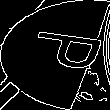P_E: (8, 31, 102, 79)
